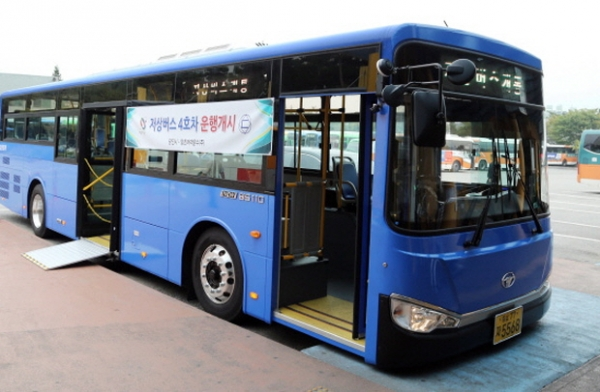entrance: (78, 106, 119, 255)
